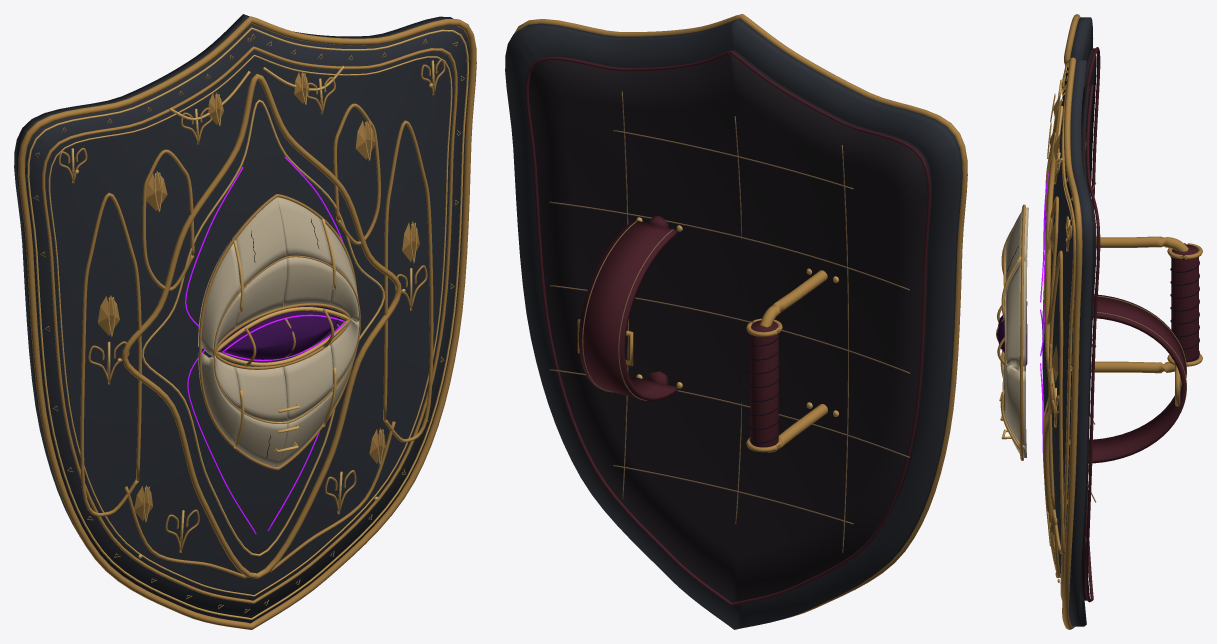
Rendered from VeiledEye_Shield_v1.fbx.
3 renders of one model, left to right at view 1: azimuth 30°, elevation 25°; view 2: azimuth 150°, elevation 25°; view 3: azimuth 270°, elevation 25°, orthographic. The views are drawn at different scales.
Parts seen in each view (by area): view 1: VeiledEye | 01 Forged shield shell, VeiledEye | 02 Gilt rim, VeiledEye | 03 Cathedral tracery, VeiledEye | 04 Ivory seal plates, VeiledEye | 05 Seal clasps, VeiledEye | 06 Amethyst eye, VeiledEye | 07 Magic channels; view 2: VeiledEye | 08 Rear leather liner, VeiledEye | 01 Forged shield shell, VeiledEye | 09 Rear stitching, VeiledEye | 12 Forearm strap, VeiledEye | 02 Gilt rim, VeiledEye | 10 Hand grip, VeiledEye | 11 Rear metalwork; view 3: VeiledEye | 01 Forged shield shell, VeiledEye | 03 Cathedral tracery, VeiledEye | 02 Gilt rim, VeiledEye | 12 Forearm strap, VeiledEye | 04 Ivory seal plates, VeiledEye | 09 Rear stitching, VeiledEye | 10 Hand grip, VeiledEye | 08 Rear leather liner, VeiledEye | 11 Rear metalwork, VeiledEye | 05 Seal clasps, VeiledEye | 07 Magic channels, VeiledEye | 06 Amethyst eye.
Boxes of the visible parts, x1,y1,x2,y2 form: VeiledEye | 01 Forged shield shell: (14,14,470,623); VeiledEye | 02 Gilt rim: (18,16,476,629); VeiledEye | 03 Cathedral tracery: (58,58,445,578); VeiledEye | 04 Ivory seal plates: (198,197,359,466); VeiledEye | 05 Seal clasps: (199,194,360,470); VeiledEye | 06 Amethyst eye: (218,306,339,359); VeiledEye | 07 Magic channels: (185,156,346,533); VeiledEye | 08 Rear leather liner: (529,49,932,602); VeiledEye | 01 Forged shield shell: (505,18,962,629); VeiledEye | 09 Rear stitching: (525,50,930,606); VeiledEye | 12 Forearm strap: (578,216,677,401); VeiledEye | 02 Gilt rim: (514,14,967,618); VeiledEye | 10 Hand grip: (749,320,779,447); VeiledEye | 11 Rear metalwork: (577,217,838,452); VeiledEye | 01 Forged shield shell: (1042,17,1093,626); VeiledEye | 03 Cathedral tracery: (1043,79,1071,582); VeiledEye | 02 Gilt rim: (1060,14,1082,629); VeiledEye | 12 Forearm strap: (1088,294,1186,463); VeiledEye | 04 Ivory seal plates: (1003,207,1028,457); VeiledEye | 09 Rear stitching: (1085,47,1186,602); VeiledEye | 10 Hand grip: (1170,244,1199,362); VeiledEye | 08 Rear leather liner: (1080,48,1096,600); VeiledEye | 11 Rear metalwork: (1091,236,1202,406); VeiledEye | 05 Seal clasps: (996,204,1025,460); VeiledEye | 07 Magic channels: (1040,174,1048,473); VeiledEye | 06 Amethyst eye: (997,301,1027,365).
Bounding box in the file's own units: 45.77 × 58.62 × 19.29.
